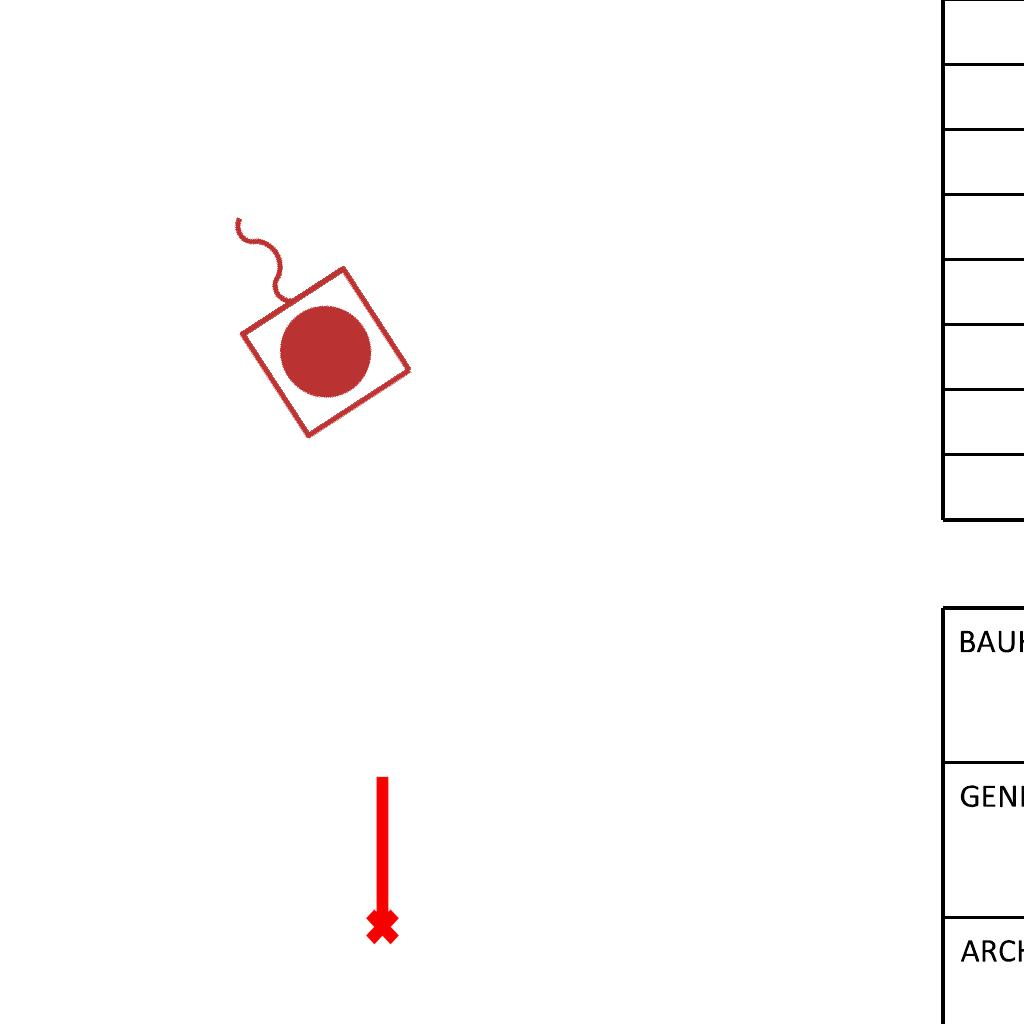ASR_Ansaugoeffnung: (357, 771, 403, 947)
Zugtaster: (173, 167, 427, 451)
